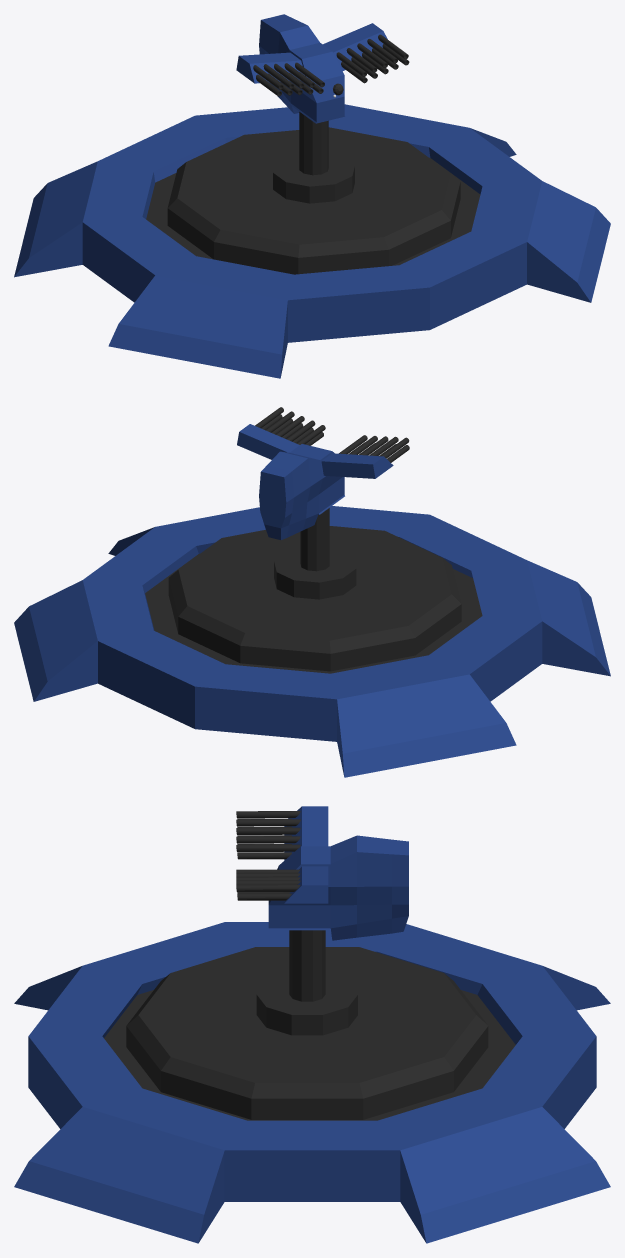
Rendered from DefensiveTurret.fbx.
The picture shows the model from 3 angles, top to bottom: view 1: azimuth 30°, elevation 25°; view 2: azimuth 150°, elevation 25°; view 3: azimuth 270°, elevation 25°; orthographic projection. The views are drawn at different scales.
Parts seen in each view (by area): view 1: FirstVersion; view 2: FirstVersion; view 3: FirstVersion.
Boxes of the visible parts, <box> form: FirstVersion: <box>14,14,610,378</box>; FirstVersion: <box>14,407,610,777</box>; FirstVersion: <box>14,806,610,1243</box>.
Size of the model in its own units: 61.77 by 24.44 by 52.55.
